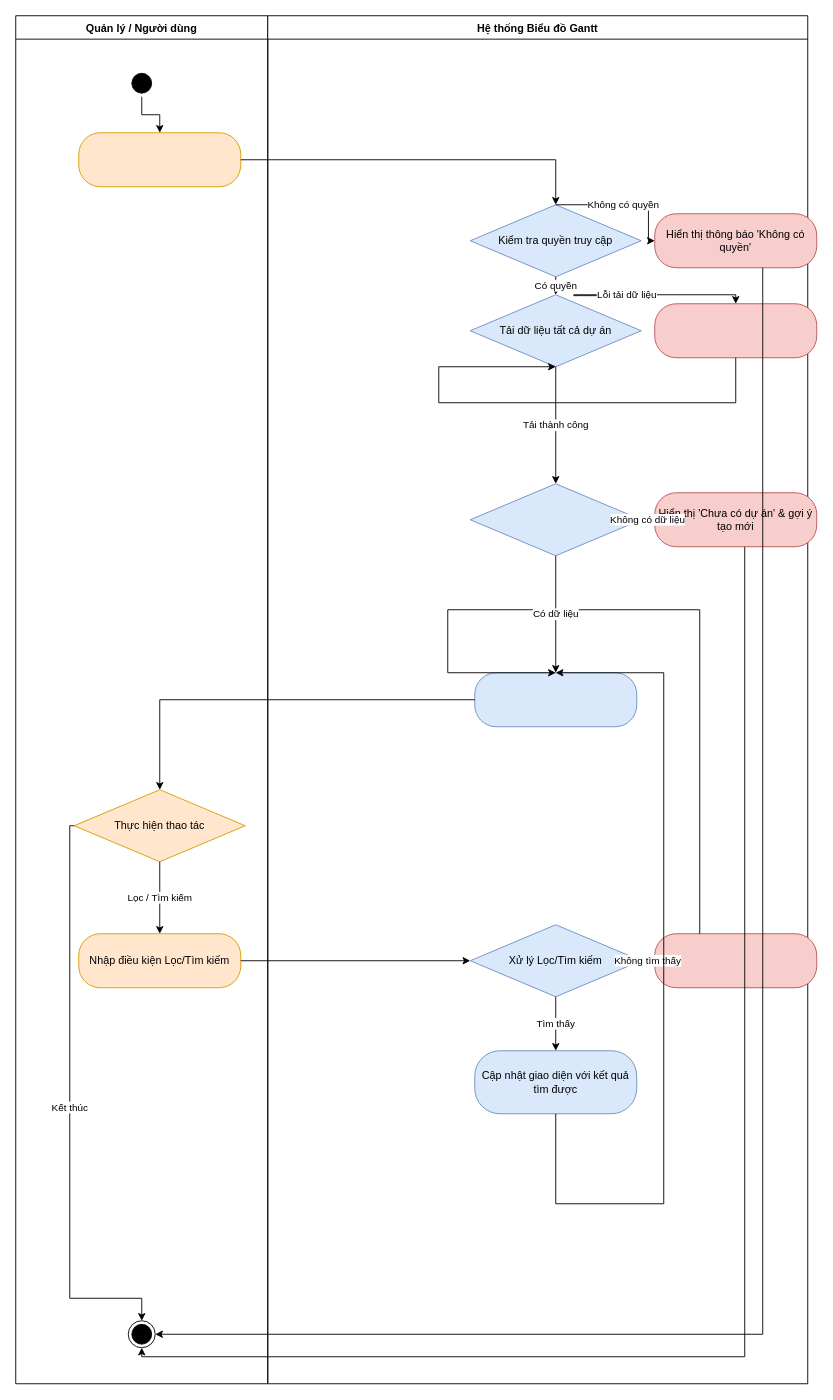
Image size: 833x1400. Some labels were removed from this diagram. Each missing label, with the centre of its shape:
"Hiển thị giao diện tổng quan" goes at [555,699].
"Hiển thị lỗi 'Không tìm thấy kết quả'" goes at [735,960].
"Hiển thị lỗi tải dữ liệu & nút 'Thử lại'" goes at [735,330].
"Kiểm tra có dữ liệu không" goes at [555,519].
"Truy cập chức năng Tổng quan Dự án" goes at [159,159].
